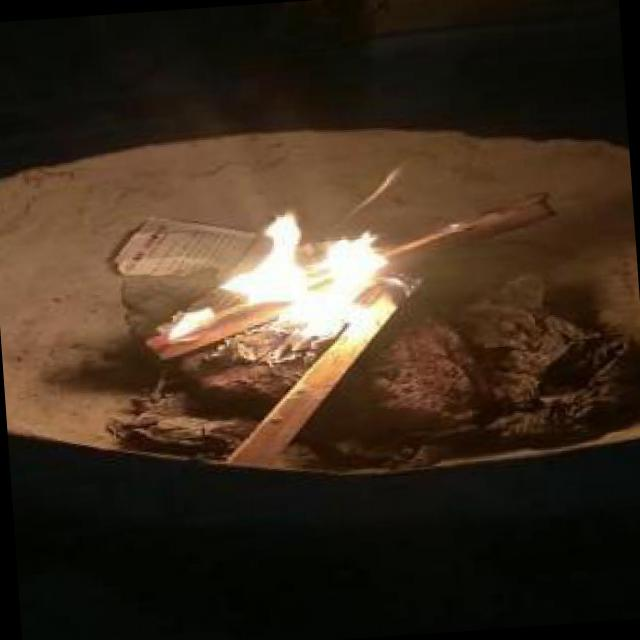fire: (146, 197, 414, 353)
